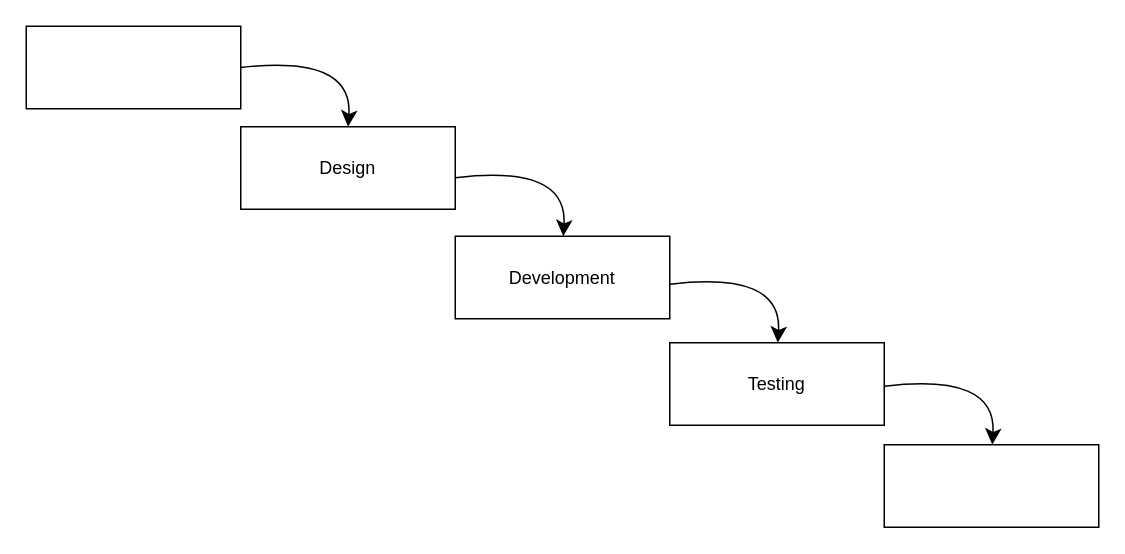
Some shapes in this 1125 by 554 pixel diagram are drawn without their labels. Here are the shapes that lost their labels. From the top down, the box of each, then its label:
(25, 25, 241, 109): Requirement
(883, 443, 1099, 527): Deployment
